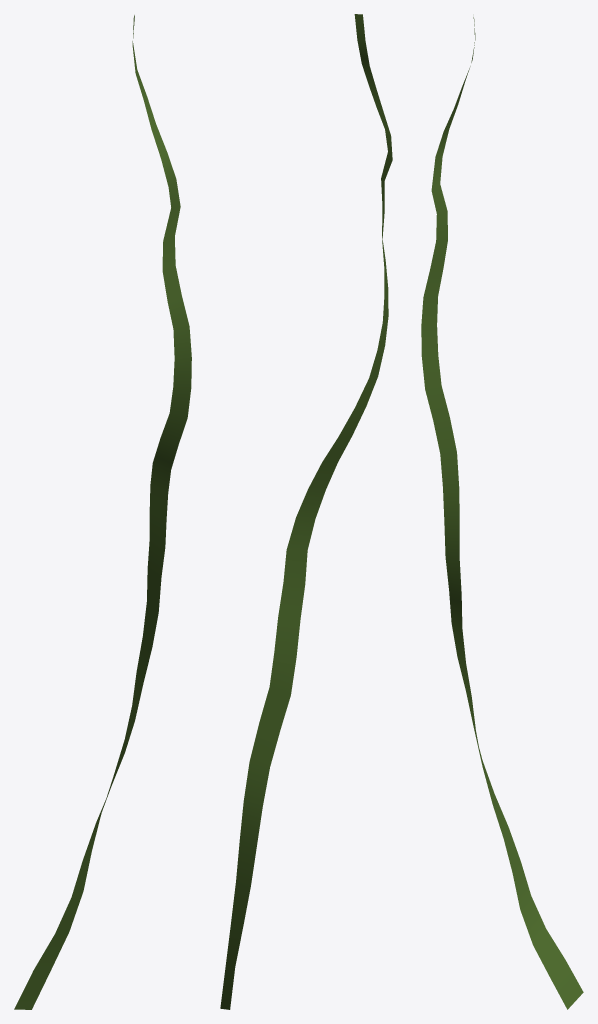
Rendered from plant_swamp_kelp_long_solo_A.fbx.
3 renders of one model, left to right at view 1: azimuth 90°, elevation 25°; view 2: azimuth 150°, elevation 25°; view 3: azimuth 270°, elevation 25°, orthographic. The views are drawn at different scales.
Parts seen in each view (by area): view 1: plant_swamp_kelp_long_solo_A; view 2: plant_swamp_kelp_long_solo_A; view 3: plant_swamp_kelp_long_solo_A.
Boxes of the visible parts, bbox=[...] form: plant_swamp_kelp_long_solo_A: bbox=[14, 15, 191, 1009]; plant_swamp_kelp_long_solo_A: bbox=[220, 14, 392, 1009]; plant_swamp_kelp_long_solo_A: bbox=[421, 17, 583, 1009].
Size of the model in its own units: 44.92 by 353 by 54.58.
